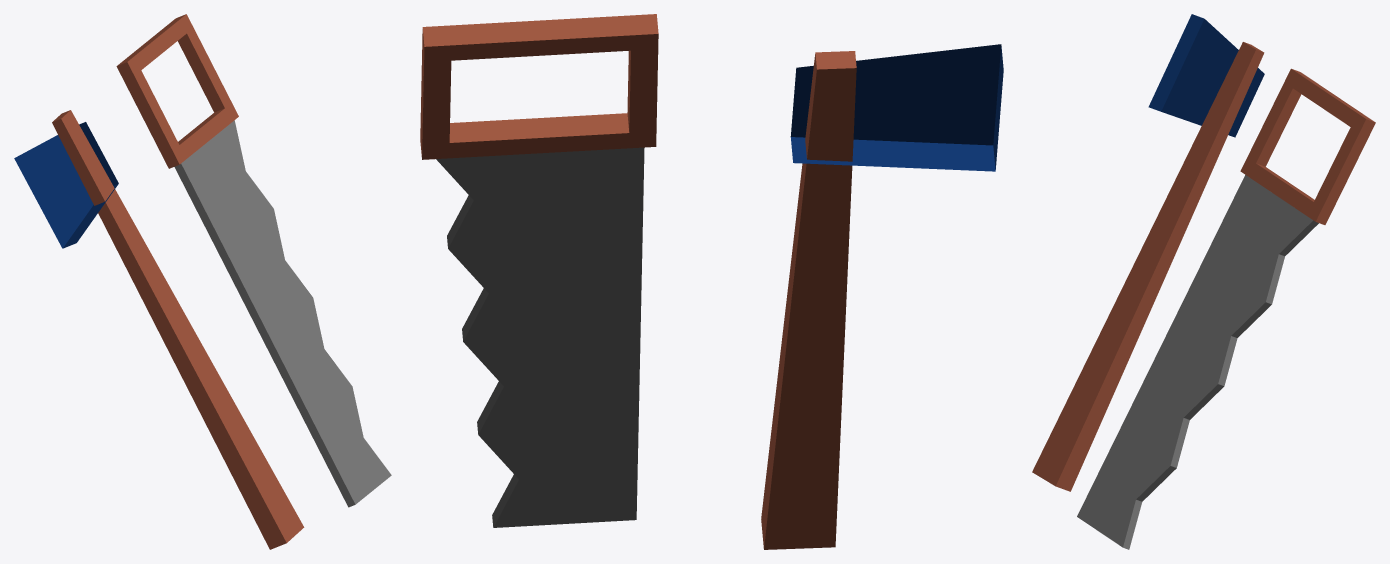
The model's file is Wood cutting.glb.
3 renders of one model, left to right at view 1: azimuth 30°, elevation 25°; view 2: azimuth 150°, elevation 25°; view 3: azimuth 270°, elevation 25°, orthographic. The views are drawn at different scales.
Parts seen in each view (by area): view 1: Saw blade, Axe handle, Saw handle, Axe head; view 2: Saw blade, Axe handle, Saw handle, Axe head; view 3: Saw blade, Axe handle, Saw handle, Axe head.
Part boxes in pixels (x1,y1,x2,y2): Saw blade: [174, 120, 391, 507]; Axe handle: [52, 110, 304, 549]; Saw handle: [116, 14, 238, 168]; Axe head: [14, 122, 118, 248]; Saw blade: [436, 147, 644, 527]; Axe handle: [761, 51, 856, 549]; Saw handle: [420, 14, 658, 159]; Axe head: [790, 44, 1003, 171]; Saw blade: [1077, 175, 1318, 549]; Axe handle: [1032, 42, 1264, 491]; Saw handle: [1240, 68, 1375, 224]; Axe head: [1148, 14, 1264, 137].
Size of the model in its own units: 0.6094 by 0.6969 by 0.5437.
Materials: 3 (3 with a texture image).
